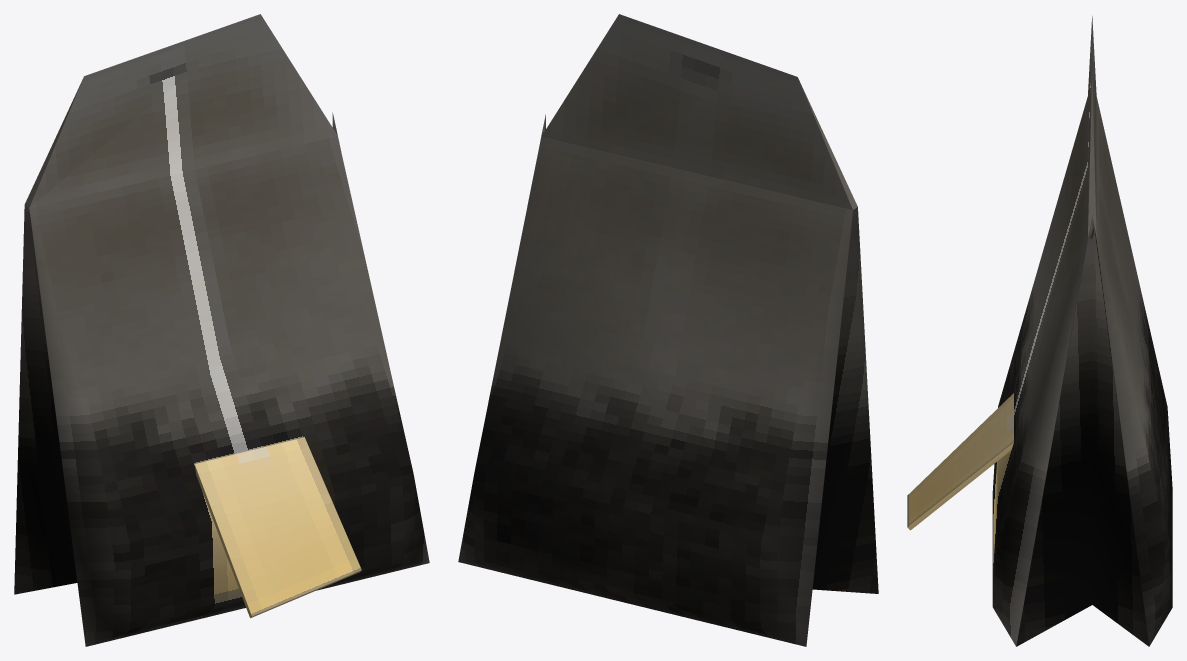
File: UsedTeaBag.fbx
The picture shows the model from 3 angles, left to right: view 1: azimuth 30°, elevation 25°; view 2: azimuth 150°, elevation 25°; view 3: azimuth 270°, elevation 25°; orthographic projection. The views are drawn at different scales.
Visible parts, largest first — view 1: TeaBag; view 2: TeaBag; view 3: TeaBag.
Part boxes in pixels (<box>): TeaBag: <box>14,14,429,646</box>; TeaBag: <box>458,14,878,646</box>; TeaBag: <box>907,16,1172,646</box>.
Bounding box in the file's own units: 10.59 × 15.39 × 7.23.
